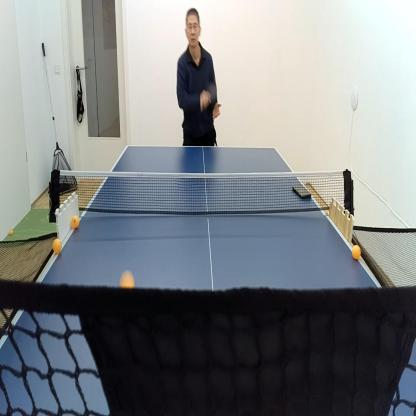Ball: (120, 269, 136, 289), (52, 237, 62, 255), (352, 243, 362, 260), (70, 214, 80, 230), (9, 228, 13, 236)
